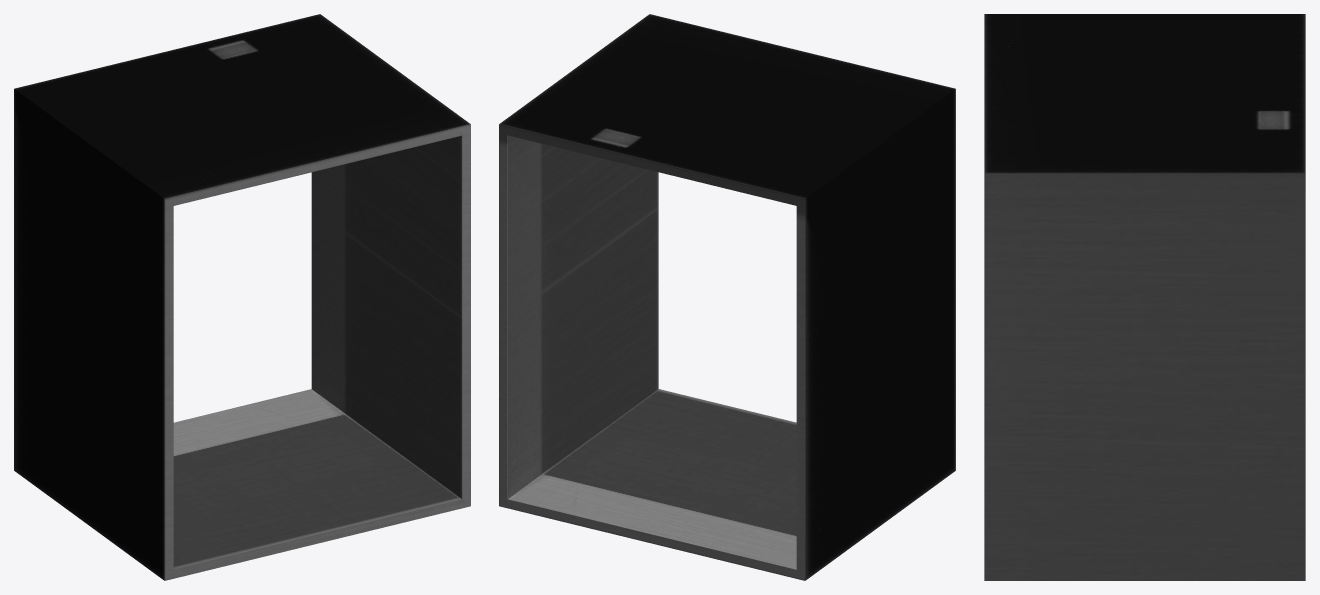
File: case_5.gltf
3 views of the same model, side by side, from view 1: azimuth 30°, elevation 25°; view 2: azimuth 150°, elevation 25°; view 3: azimuth 270°, elevation 25° (orthographic). The views are drawn at different scales.
Visible parts, largest first — view 1: case_5; view 2: case_5; view 3: case_5.
Part boxes in pixels (x1,y1,x2,y2): case_5: (14,14,470,580); case_5: (499,14,955,580); case_5: (984,14,1305,580).
Bounding box in the file's own units: 2.72 × 3.24 × 2.32.
Materials: 1 (1 with a texture image).
